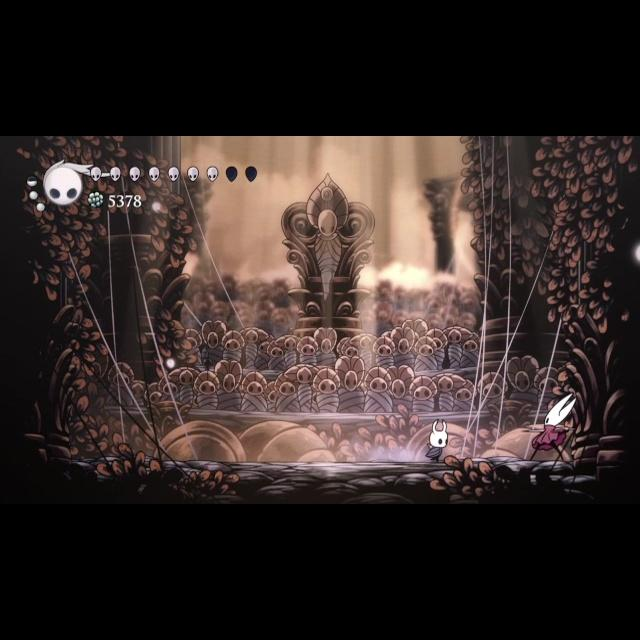EnemyLeadIn: (521, 390, 575, 464)
Player: (422, 414, 452, 464)
